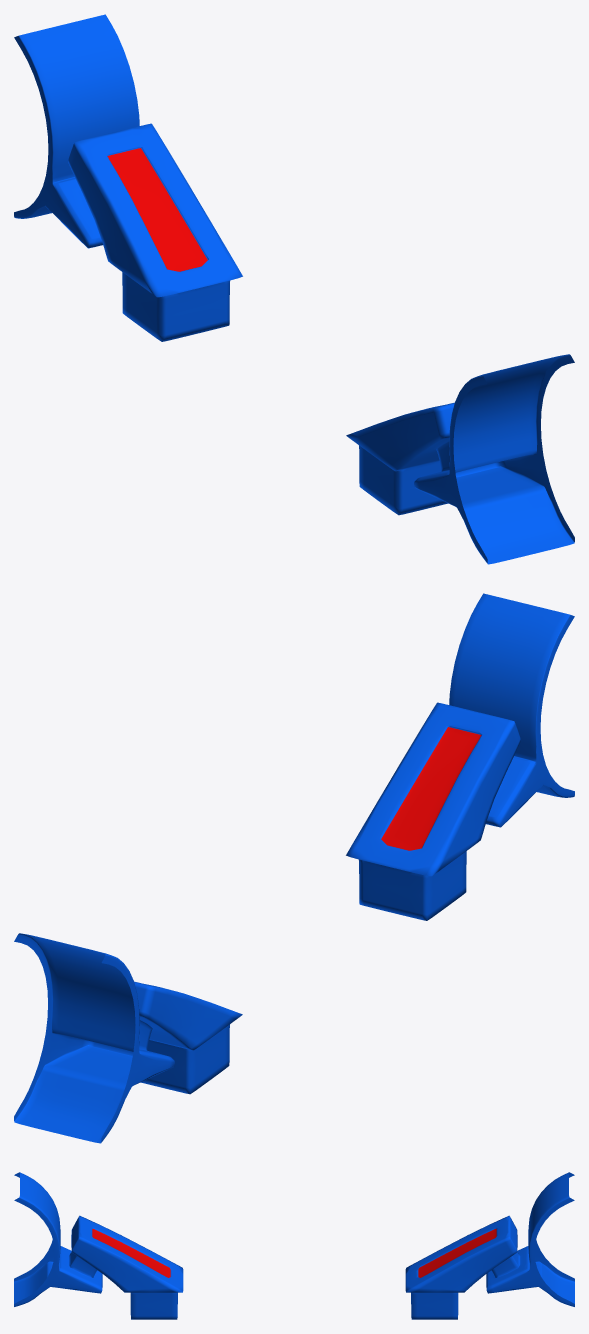
File: Train_Hooks.fbx
3 views of the same model, one above another, from view 1: azimuth 30°, elevation 25°; view 2: azimuth 150°, elevation 25°; view 3: azimuth 270°, elevation 25° (orthographic). The views are drawn at different scales.
Visible parts, largest first — view 1: Train_Hook1, Train_Hook; view 2: Train_Hook, Train_Hook1; view 3: Train_Hook, Train_Hook1.
Boxes of the visible parts, bbox=[...] form: Train_Hook1: bbox=[14, 14, 242, 341]; Train_Hook: bbox=[346, 354, 574, 564]; Train_Hook: bbox=[346, 593, 574, 920]; Train_Hook1: bbox=[14, 933, 242, 1143]; Train_Hook: bbox=[14, 1172, 183, 1319]; Train_Hook1: bbox=[405, 1172, 574, 1319].
Size of the model in its own units: 100 by 232 by 938.
